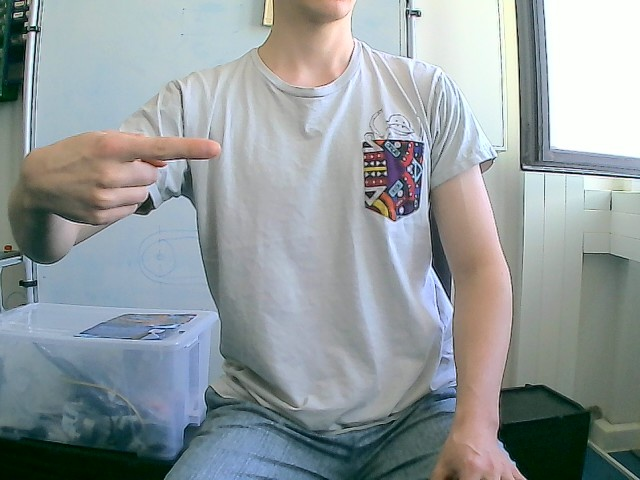left: (16, 128, 222, 225)
